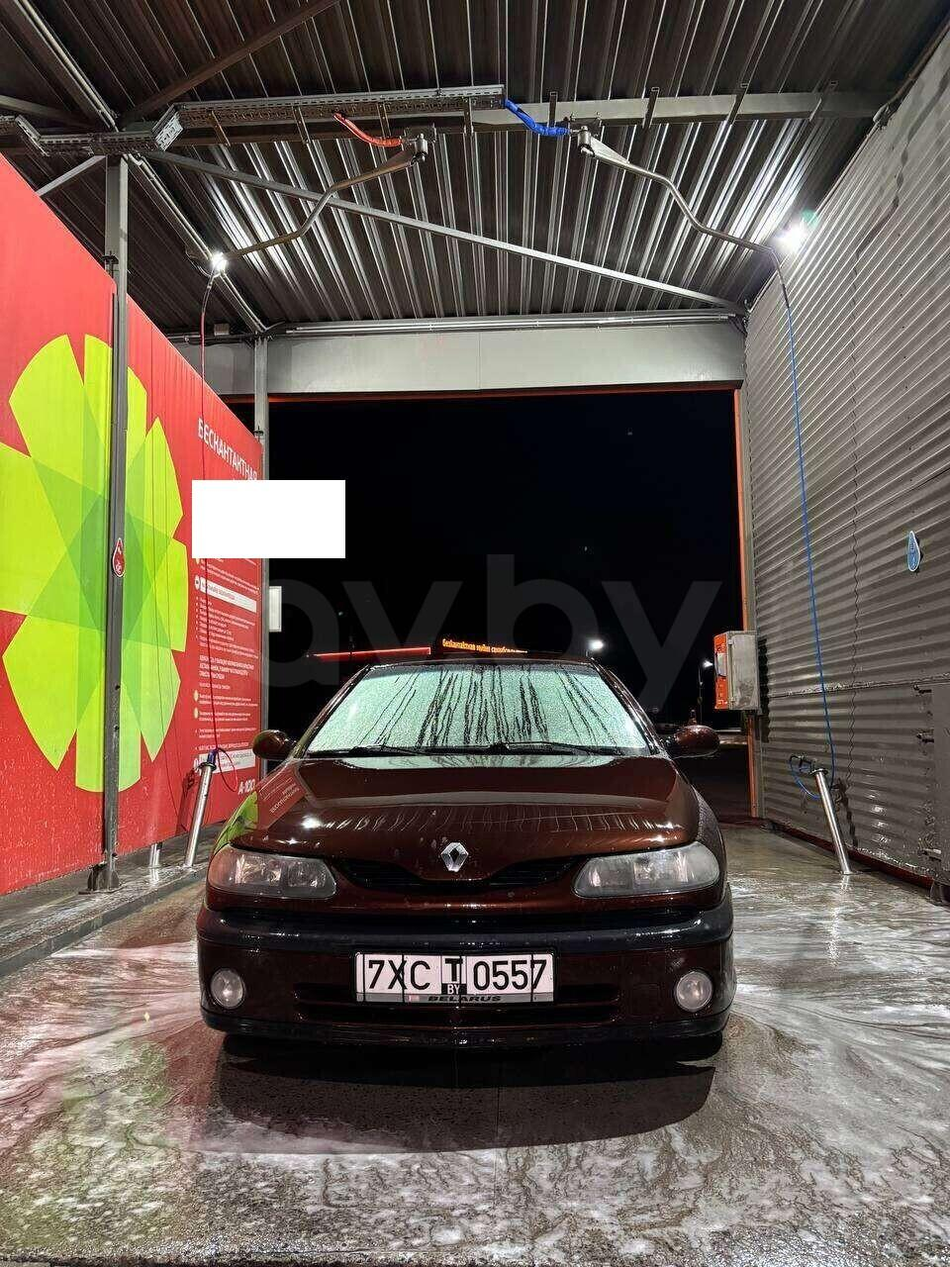Laguna_1998-2001: (191, 645, 739, 1097)
